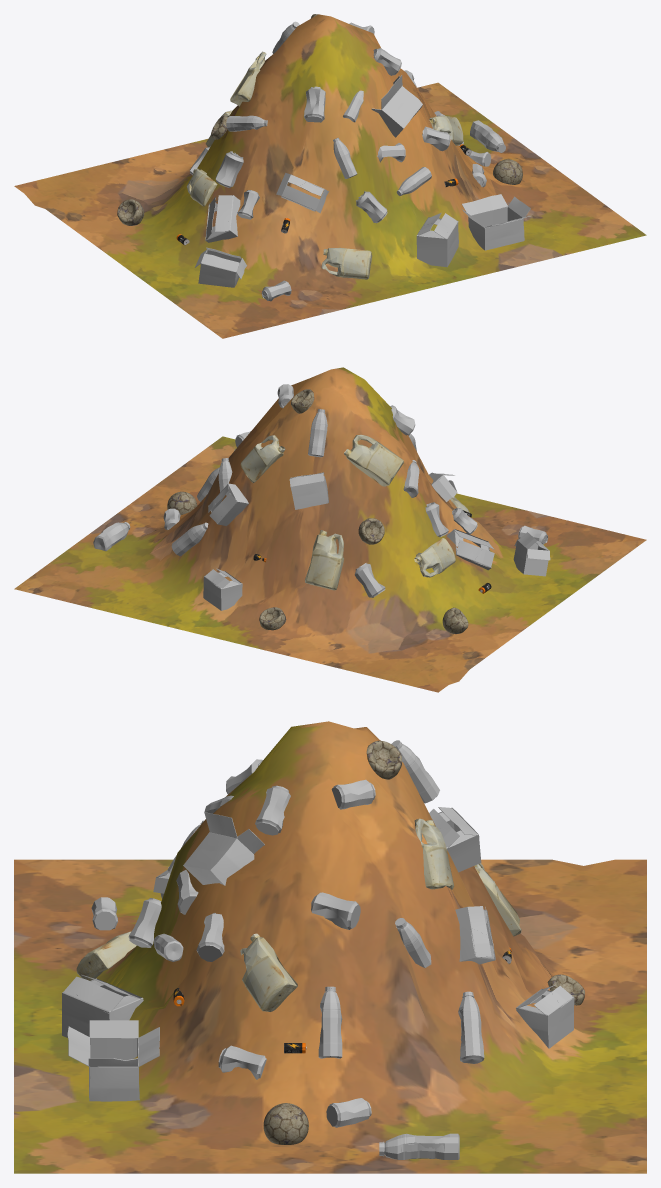
File: lajishan.fbx
The picture shows the model from 3 angles, top to bottom: view 1: azimuth 30°, elevation 25°; view 2: azimuth 150°, elevation 25°; view 3: azimuth 270°, elevation 25°; orthographic projection. The views are drawn at different scales.
Visible parts, largest first — view 1: pPlane1, dianchi:polySurface32, dianchi:polySurface41, polySurface23, polySurface32, polySurface47, plastic_bottle_gallon5, dianchi:polySurface23, plastic_bottle_gallon4, suliaoping:plastic_bottle_gallon2, polySurface49, PINGZI:polySurface9 (+9 smaller); view 2: pPlane1, plastic_bottle_gallon4, suliaoping1:plastic_bottle_gallon2, polySurface41, polySurface23, polySurface48, plastic_bottle_gallon3, polySurface47, polySurface57, suliaoping:plastic_bottle_gallon2, polySurface56, PINGZI:polySurface9 (+7 smaller); view 3: pPlane1, dianchi:polySurface32, polySurface32, dianchi:polySurface41, plastic_bottle_gallon2, polySurface41, polySurface48, PINGZI:polySurface9, polySurface57, plastic_bottle_gallon3, football_inflated, polySurface24 (+14 smaller).
Boxes of the visible parts, x1,y1,x2,y2 form: pPlane1: [14, 14, 646, 338]; dianchi:polySurface32: [462, 194, 530, 250]; dianchi:polySurface41: [416, 212, 458, 267]; polySurface23: [195, 247, 246, 287]; polySurface32: [371, 75, 422, 137]; polySurface47: [205, 195, 240, 242]; plastic_bottle_gallon5: [321, 247, 372, 279]; dianchi:polySurface23: [276, 173, 328, 213]; plastic_bottle_gallon4: [230, 51, 266, 106]; suliaoping:plastic_bottle_gallon2: [187, 168, 217, 206]; polySurface49: [304, 86, 325, 122]; PINGZI:polySurface9: [470, 120, 505, 152]; pPlane1: [14, 367, 646, 692]; plastic_bottle_gallon4: [344, 434, 403, 486]; suliaoping1:plastic_bottle_gallon2: [305, 530, 343, 590]; polySurface41: [203, 568, 242, 610]; polySurface23: [513, 532, 550, 576]; polySurface48: [289, 472, 328, 509]; plastic_bottle_gallon3: [240, 435, 285, 482]; polySurface47: [447, 529, 494, 570]; polySurface57: [208, 483, 248, 525]; suliaoping:plastic_bottle_gallon2: [414, 538, 455, 577]; polySurface56: [308, 409, 327, 457]; PINGZI:polySurface9: [93, 522, 130, 551]; pPlane1: [14, 721, 646, 1173]; dianchi:polySurface32: [67, 1020, 159, 1101]; polySurface32: [183, 812, 264, 885]; dianchi:polySurface41: [62, 974, 143, 1037]; plastic_bottle_gallon2: [240, 933, 297, 1011]; polySurface41: [516, 984, 574, 1048]; polySurface48: [429, 807, 481, 872]; PINGZI:polySurface9: [379, 1133, 459, 1159]; polySurface57: [455, 906, 495, 964]; plastic_bottle_gallon3: [414, 818, 453, 889]; football_inflated: [263, 1103, 308, 1144]; polySurface24: [458, 991, 484, 1063].
Bounding box in the file's own units: 20.43 × 9.27 × 17.4.
